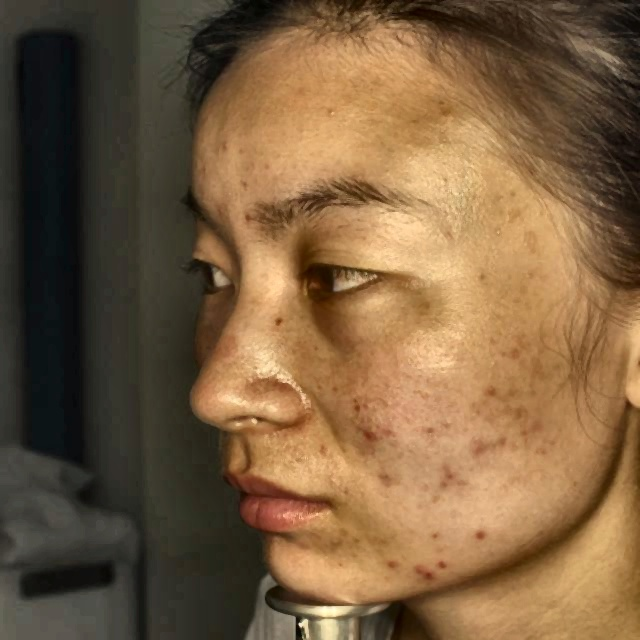pustule: (438, 464, 472, 494), (376, 552, 406, 578), (464, 434, 497, 456), (344, 397, 371, 422), (213, 139, 241, 161), (238, 207, 264, 228), (356, 424, 378, 446), (372, 466, 391, 488), (429, 554, 448, 572), (412, 560, 427, 581)
